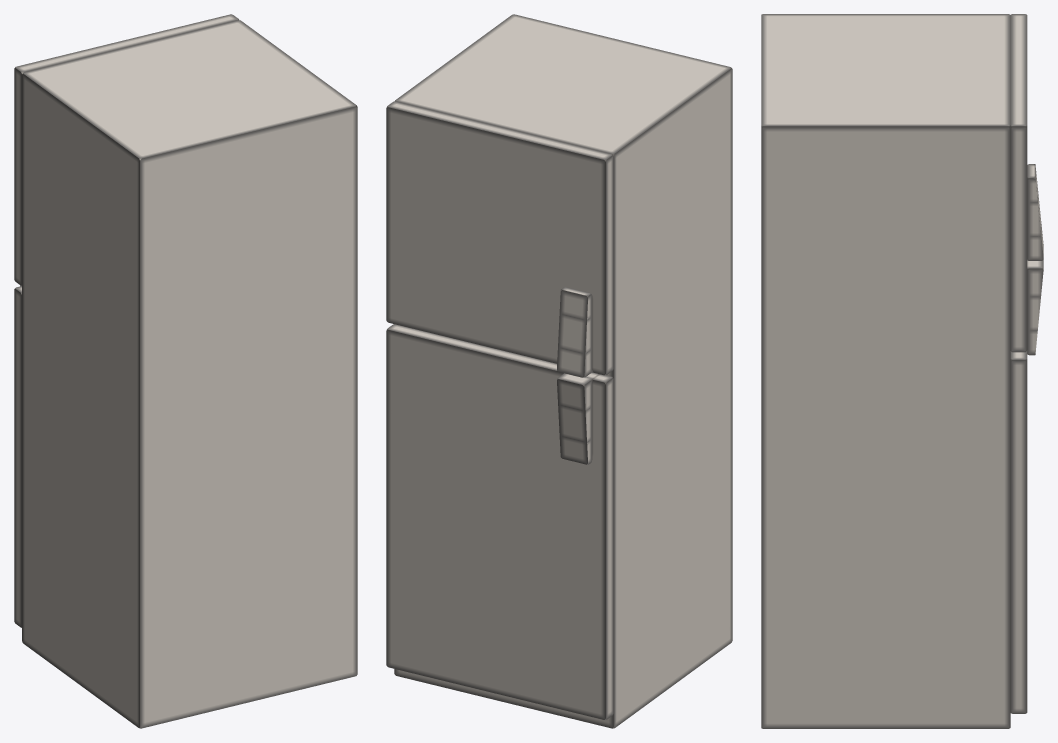
The model's file is fridge.fbx.
3 views of the same model, side by side, from view 1: azimuth 30°, elevation 25°; view 2: azimuth 150°, elevation 25°; view 3: azimuth 270°, elevation 25° (orthographic). The views are drawn at different scales.
Visible parts, largest first — view 1: body, top_door, bottom_door; view 2: body, bottom_door, top_door; view 3: body, bottom_door, top_door.
Part boxes in pixels (x1,y1,x2,y2): body: (22,20,357,728); top_door: (14,14,238,285); bottom_door: (14,285,21,627); body: (394,14,732,728); bottom_door: (386,324,613,719); top_door: (386,101,613,377); body: (761,14,1010,728); bottom_door: (1010,260,1043,713); top_door: (1010,14,1043,352).
Size of the model in its own units: 100 by 250 by 106.
Materials: 1 (1 with a texture image).
